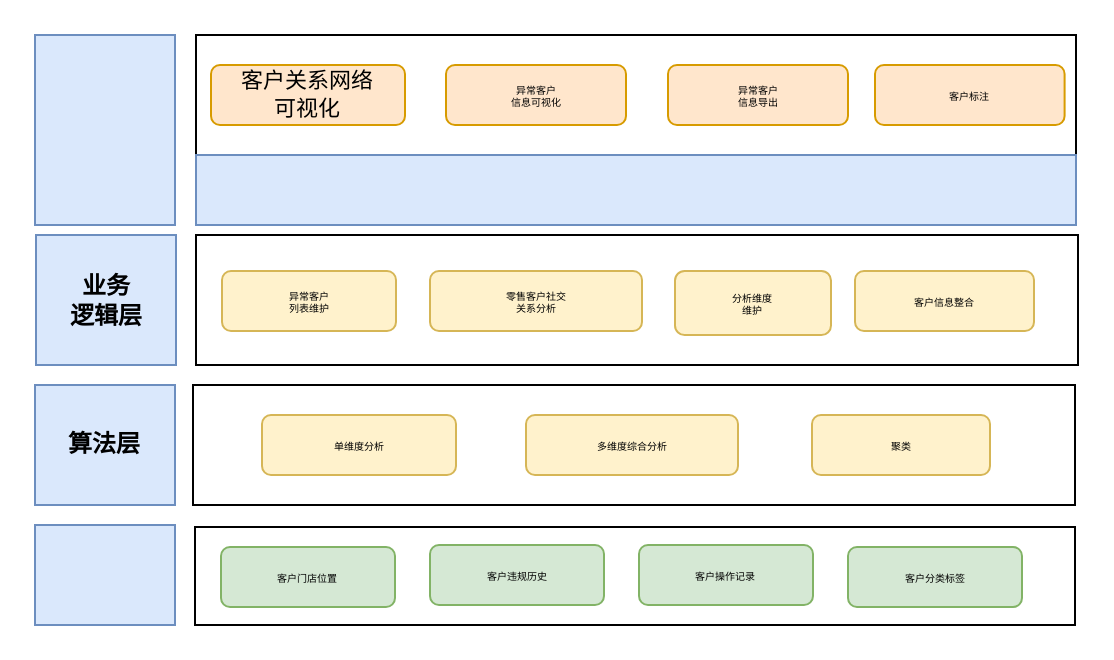
Some shapes in this 1114 by 660 pixel diagram are drawn without their labels. Each missing label, with the box of its shape:
内管系统: (194, 153, 1076, 225)
数据层: (33, 523, 175, 625)
表现层: (33, 33, 175, 225)
